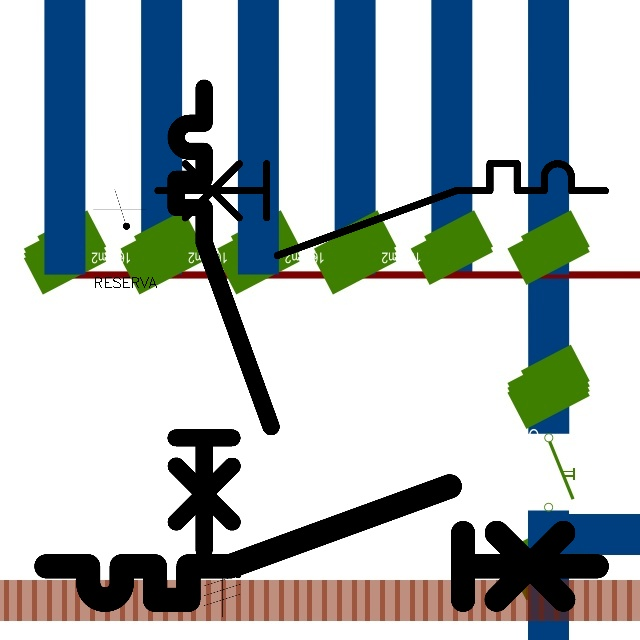interruptor_termomagnetico: (32, 472, 610, 614), (164, 76, 283, 561), (146, 152, 617, 267)
